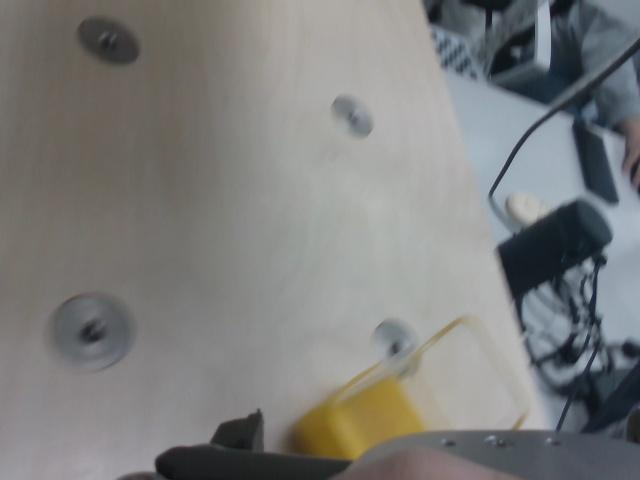yellow_cup: (295, 376, 423, 462)
